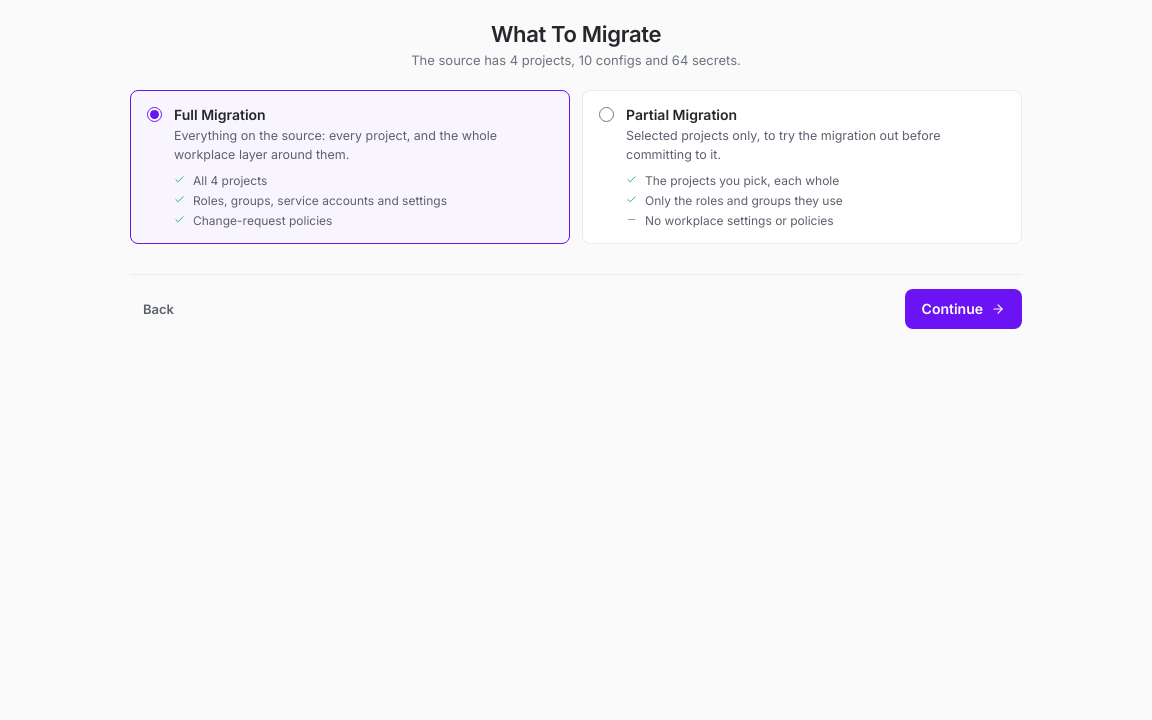
Test case: ScopePage › shows what the selection brings along, and why
The width and height of the screenshot is (1152, 720).
Click the radio button labelled "Partial Migration" at point(606, 114), box [599,107,614,122]
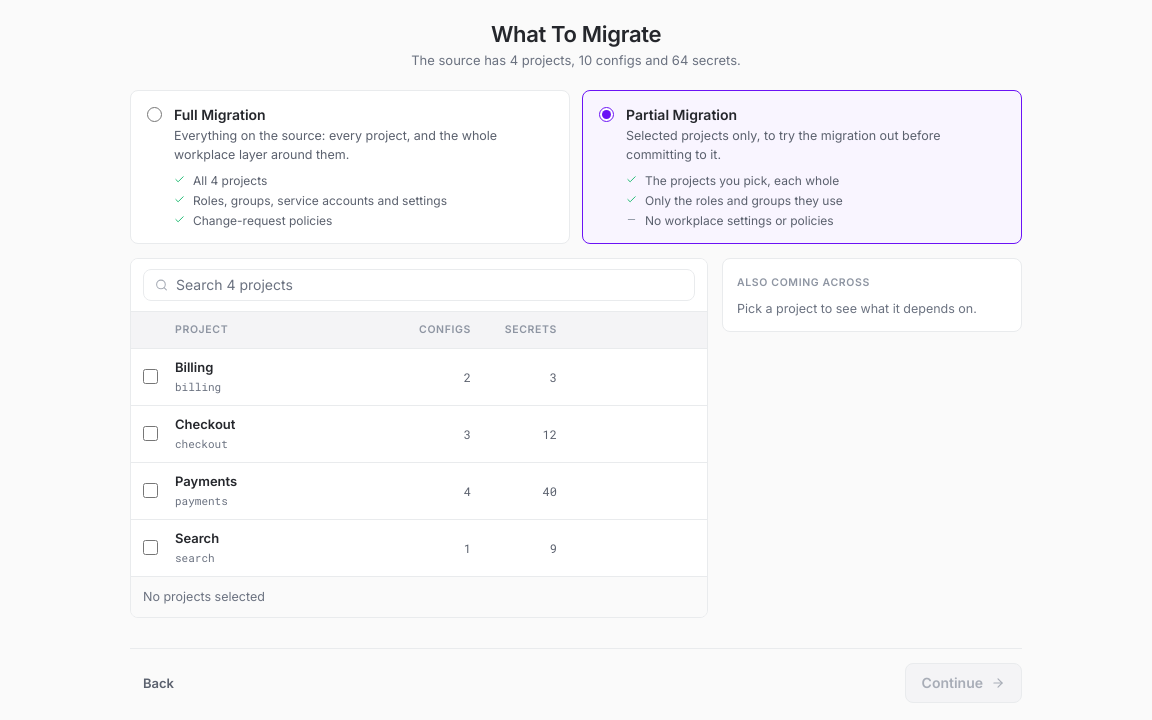
Click the checkbox labelled "Payments" at point(150, 490), box [143,483,158,498]
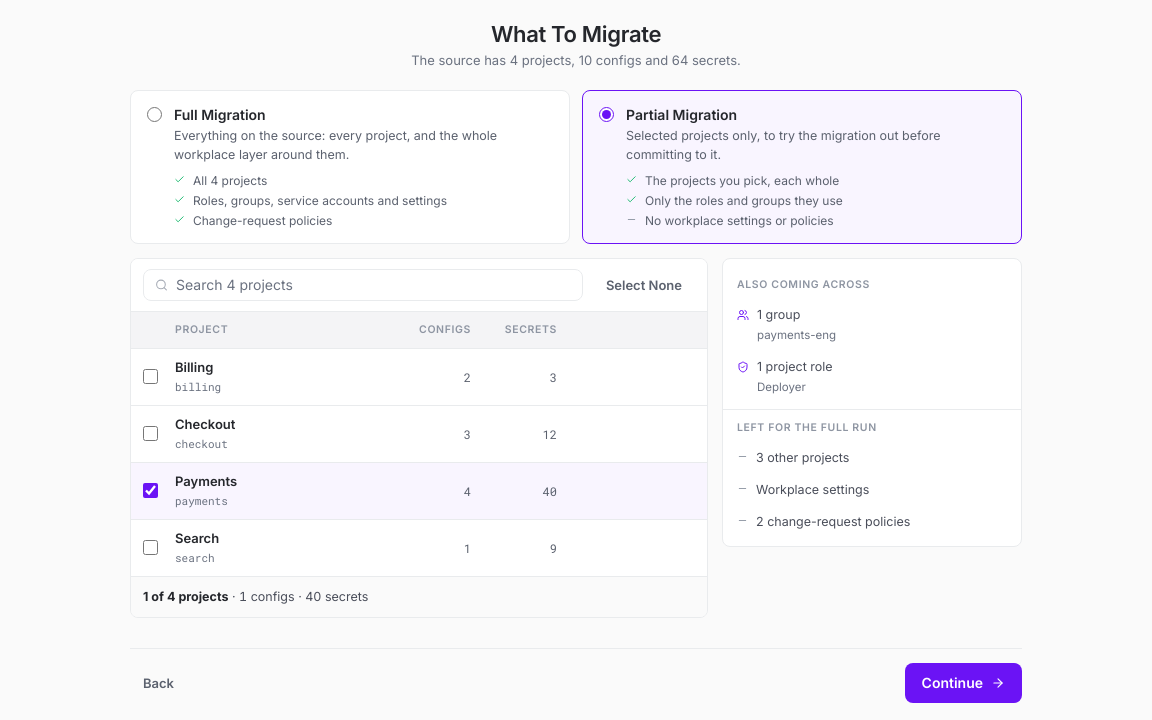
Expected: the text "payments-eng" is shown, [757,324,836,344]
Expected: the text "Deployer" is shown, [757,380,806,394]
Expected: the text "Left For The Full Run" is shown, [737,420,877,434]
